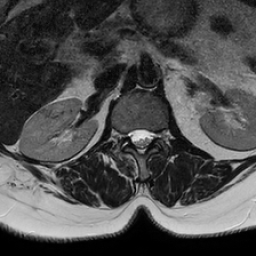CCS_normal: (137, 122, 144, 161)
LFS_stenosis: (153, 124, 162, 147)
LLS_normal: (144, 124, 153, 149)
RFS_severe_stenosis: (121, 124, 129, 145)
RLS_normal: (129, 123, 137, 149)
